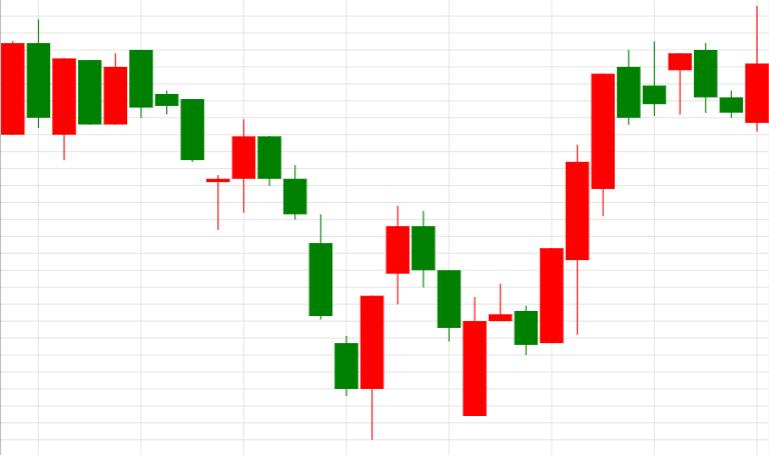bullish_engulfing_rise: (258, 136, 384, 439)
